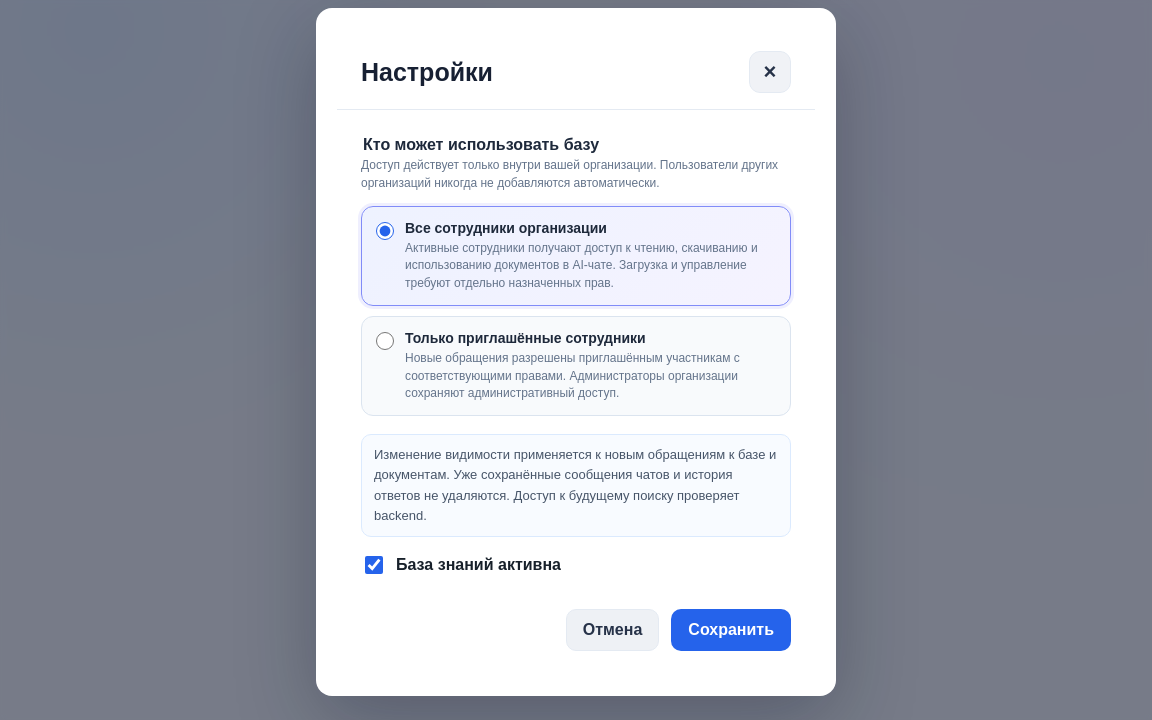
Test case: KnowledgeBaseFormModal › не принимает конфликт названия за конфликт optimistic version
The width and height of the screenshot is (1152, 720).
(page scrolled)
Click the button "Сохранить".
click(731, 630)  # box [671, 609, 791, 651]
(page scrolled)
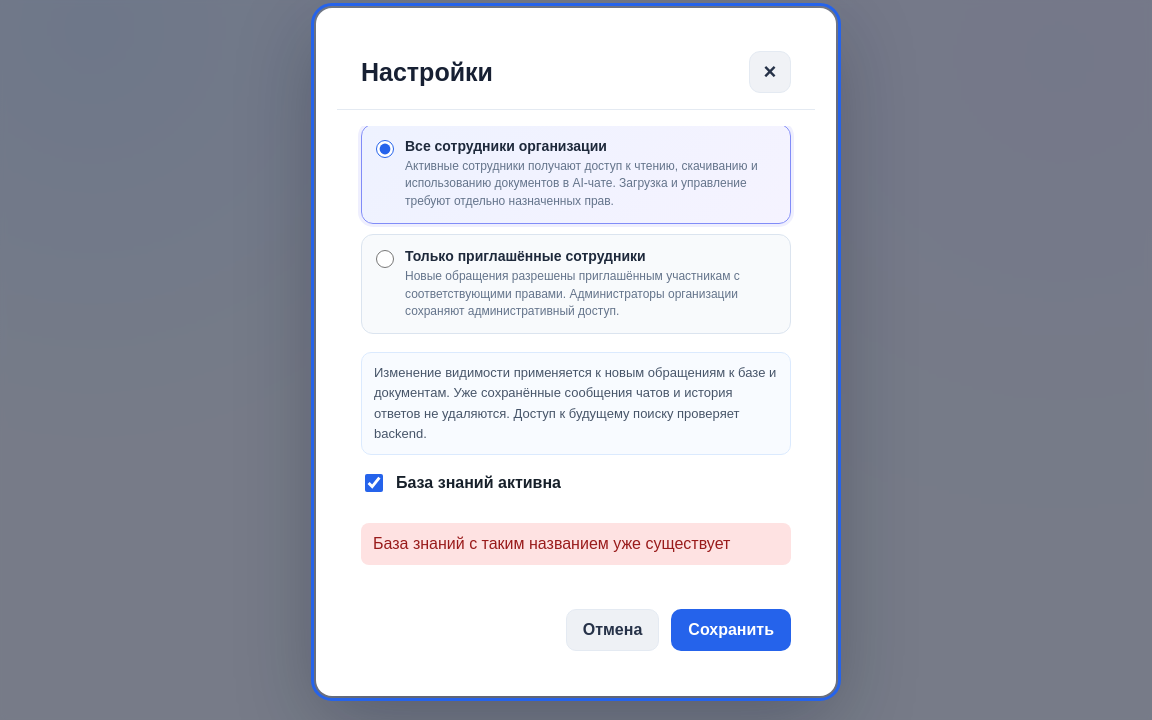
Check: the text "База знаний с таким названием уже существует" is shown, box [361, 523, 791, 565]
